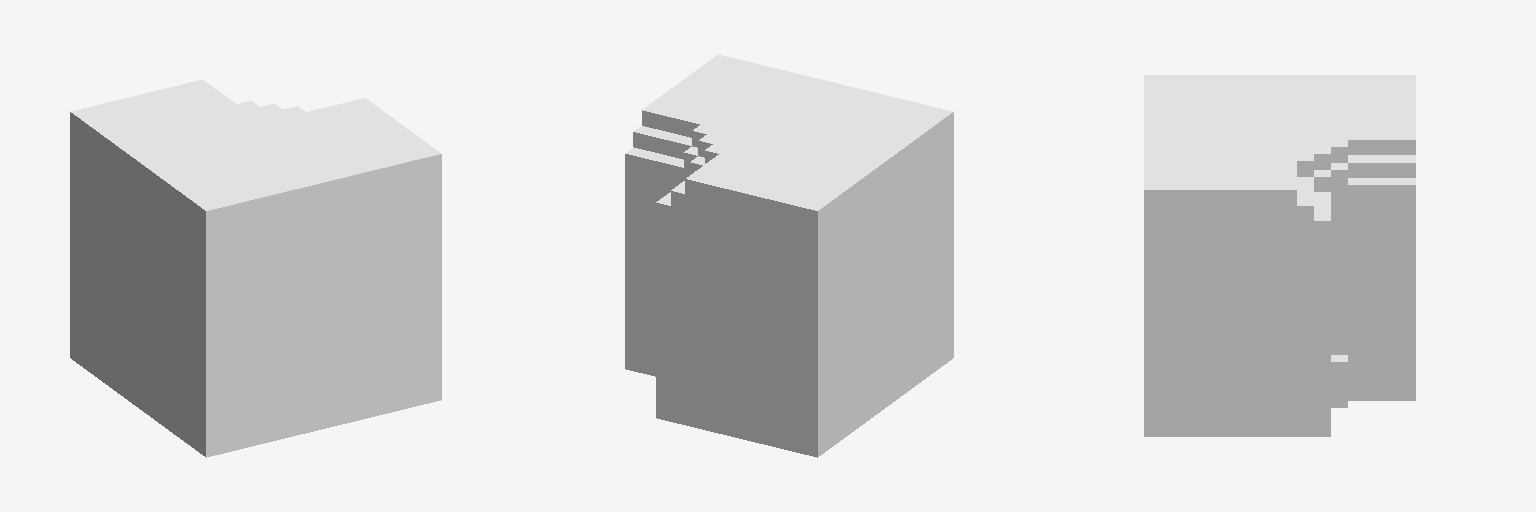
The model's file is stone6.obj.
3 renders of one model, left to right at view 1: azimuth 30°, elevation 25°; view 2: azimuth 150°, elevation 25°; view 3: azimuth 270°, elevation 25°, orthographic.
Bounding box in the file's own units: 16 × 16 × 16.